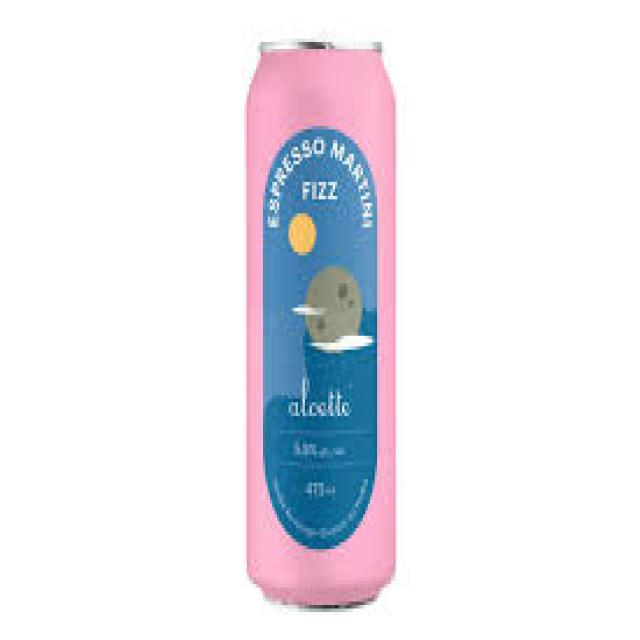Cans: (238, 21, 410, 619)
